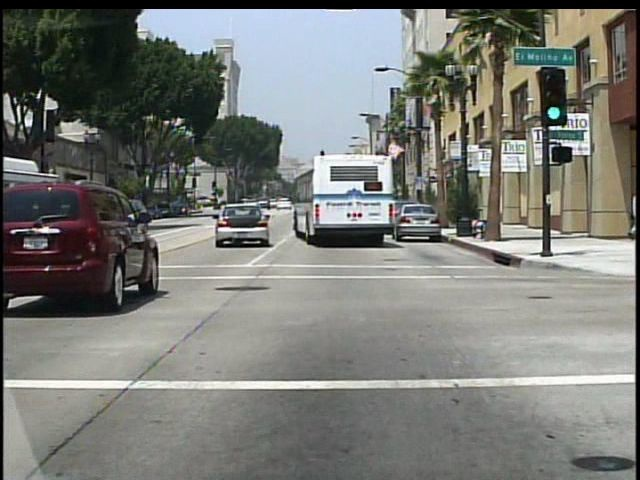person: (626, 188, 639, 243)
